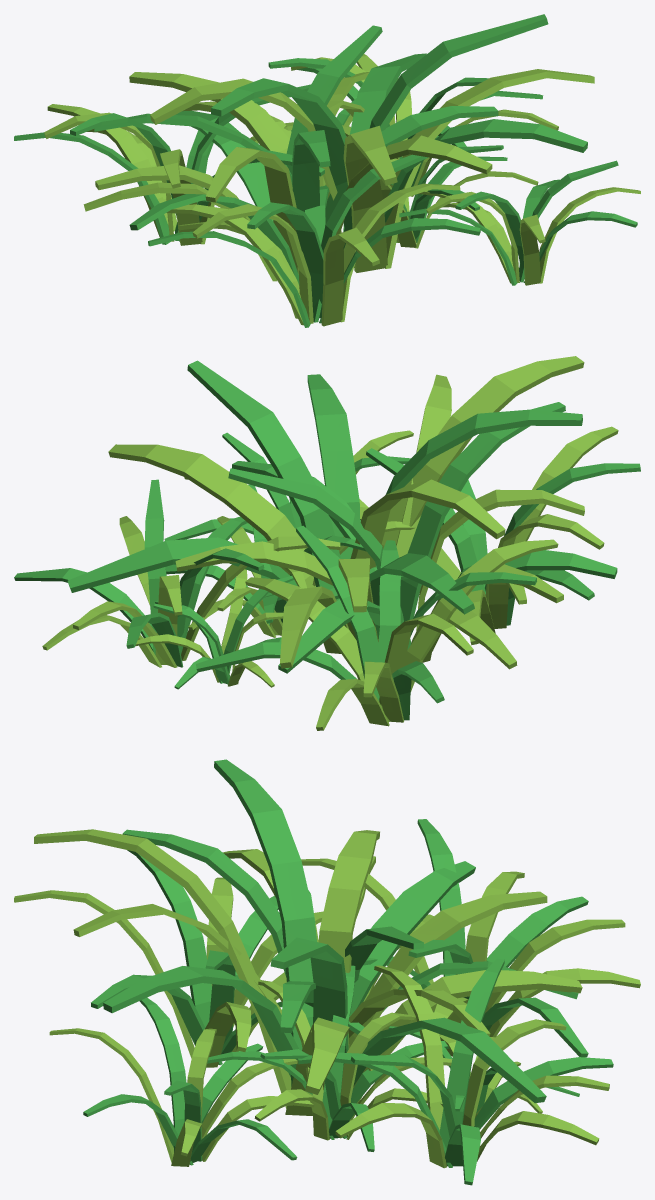
File: shrub_grass_02_fbx.fbx
3 renders of one model, top to bottom at view 1: azimuth 30°, elevation 25°; view 2: azimuth 150°, elevation 25°; view 3: azimuth 270°, elevation 25°, orthographic. The views are drawn at different scales.
Parts seen in each view (by area): view 1: grass_01_Plane.008; view 2: grass_01_Plane.008; view 3: grass_01_Plane.008.
Boxes of the visible parts, box(x1,y1,x2,y2) form: grass_01_Plane.008: box(14, 14, 640, 327); grass_01_Plane.008: box(14, 356, 640, 730); grass_01_Plane.008: box(14, 759, 640, 1185).
Bounding box in the file's own units: 228 × 101 × 232.
